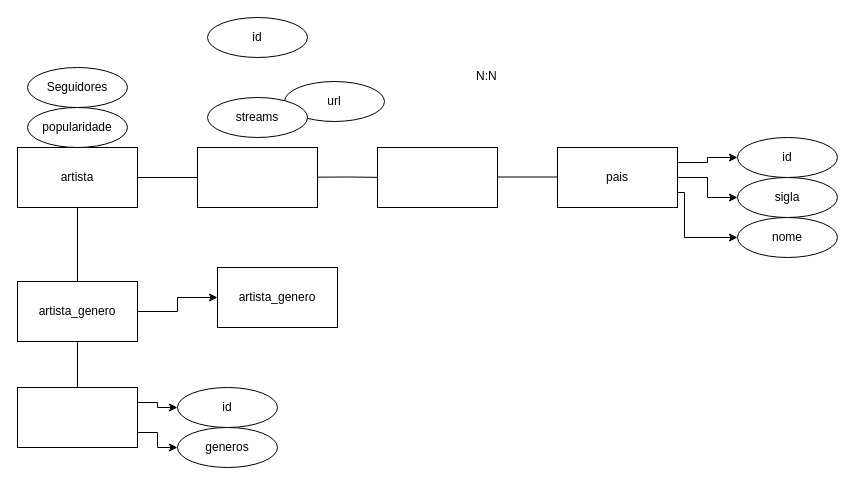
Image size: 855x485. Some labels were removed from this diagram. The centre of each missing label's shape, as x and y in pixels:
"genero" belongs at point (77, 417).
"musica" belongs at point (257, 177).
"musica_pais" belongs at point (437, 177).
